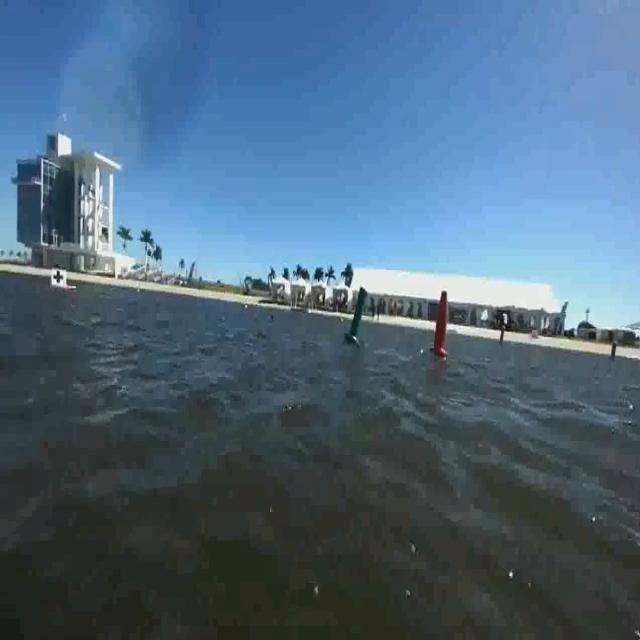green-column-buoy: (347, 274, 369, 350)
red-column-buoy: (432, 289, 452, 358)
